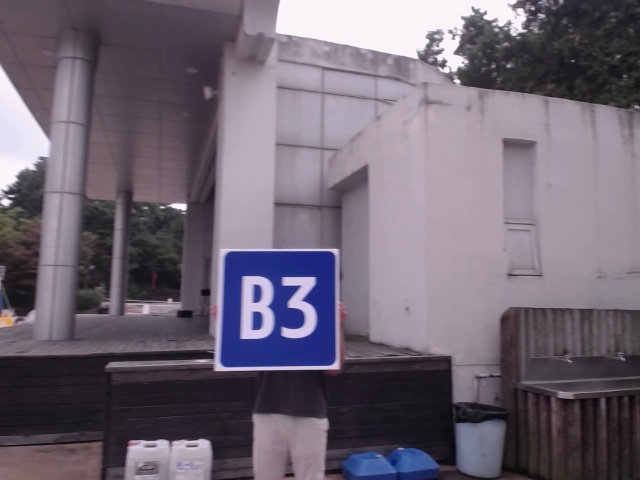delivery_b3: (220, 246, 340, 369)
